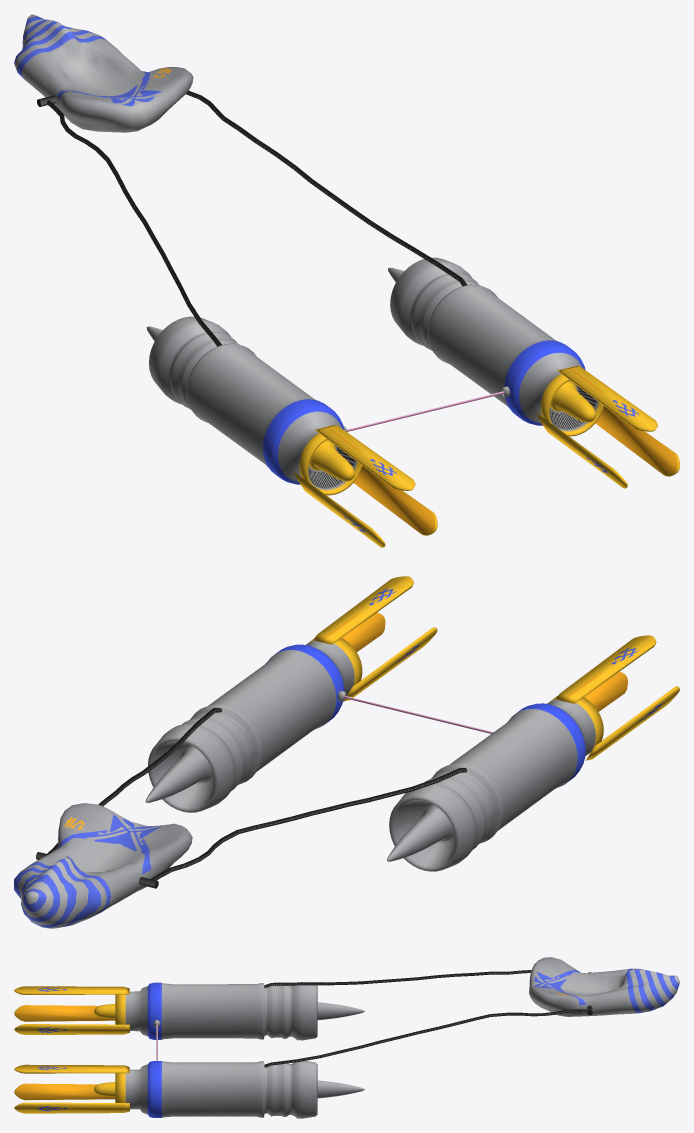
File: anakin-podracer.obj
3 views of the same model, one above another, from view 1: azimuth 30°, elevation 25°; view 2: azimuth 150°, elevation 25°; view 3: azimuth 270°, elevation 25° (orthographic). The views are drawn at different scales.
Visible parts, largest first — view 1: Podracer; view 2: Podracer; view 3: Podracer.
Boxes of the visible parts, <box> form: Podracer: <box>14,14,679,547</box>; Podracer: <box>14,576,679,928</box>; Podracer: <box>14,957,679,1118</box>.
Bounding box in the file's own units: 14.26 × 6.93 × 38.98.
